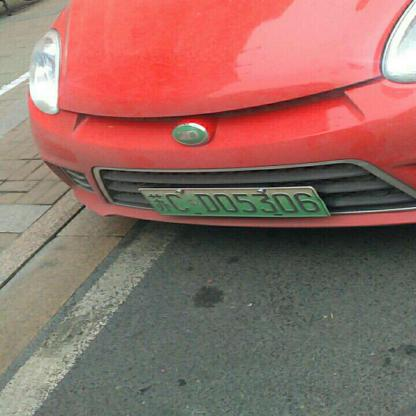lp: (139, 186, 329, 216)
